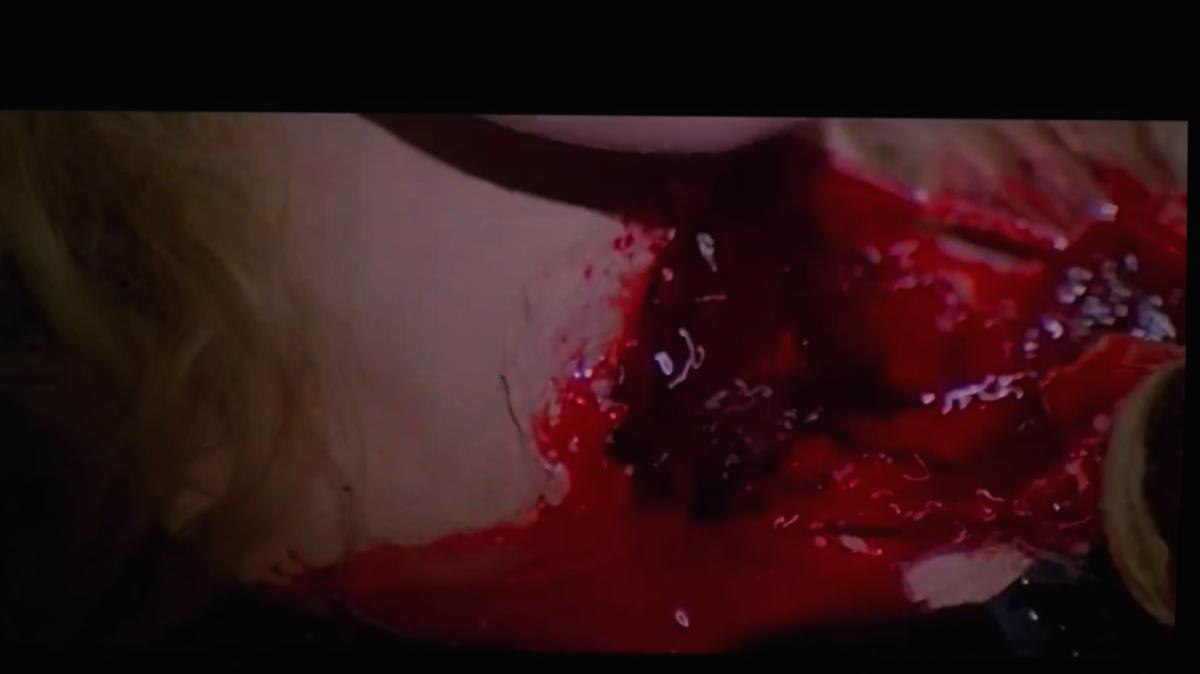Fire: (301, 112, 1189, 644)
